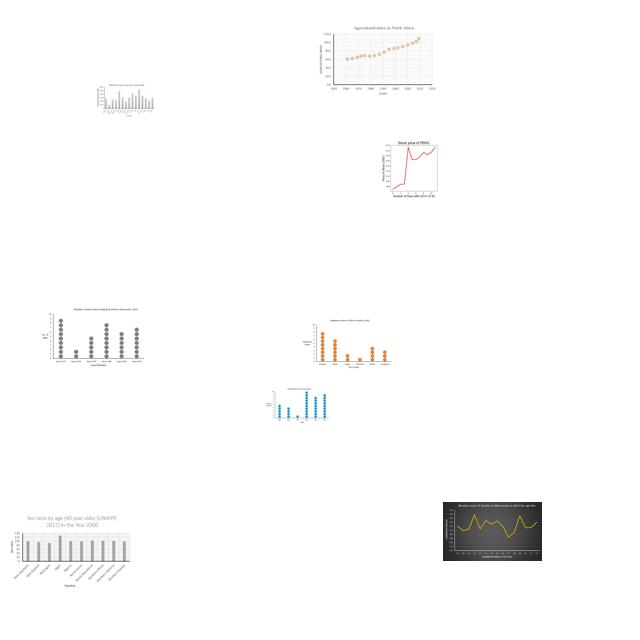Graph: (7, 513, 132, 591), (316, 24, 437, 96), (41, 307, 144, 368), (443, 502, 542, 561), (300, 318, 392, 371), (373, 138, 453, 198), (264, 386, 331, 425), (97, 84, 155, 117)
